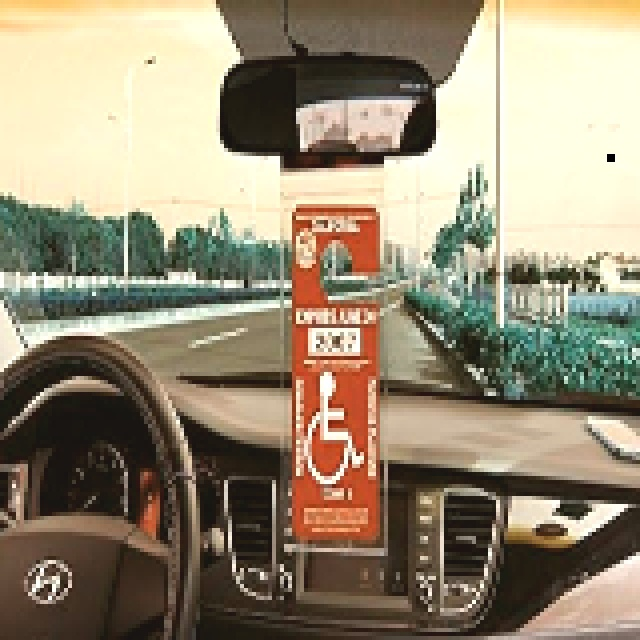ISA: (298, 367, 368, 492)
